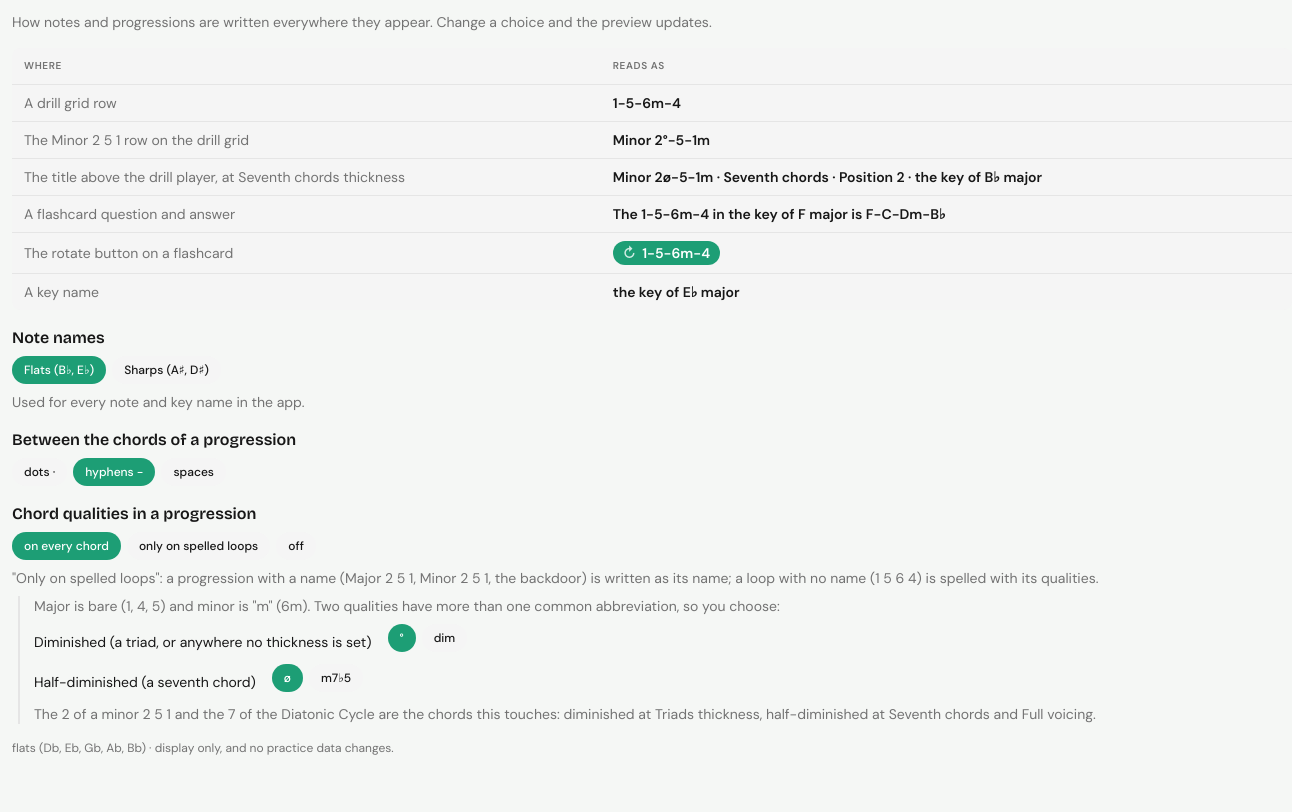
Test case: every control moves the preview › follows the note names, in every row that has one
Click the button "Sharps (A♯, D♯)" at (166, 370), box [112,356,221,384]
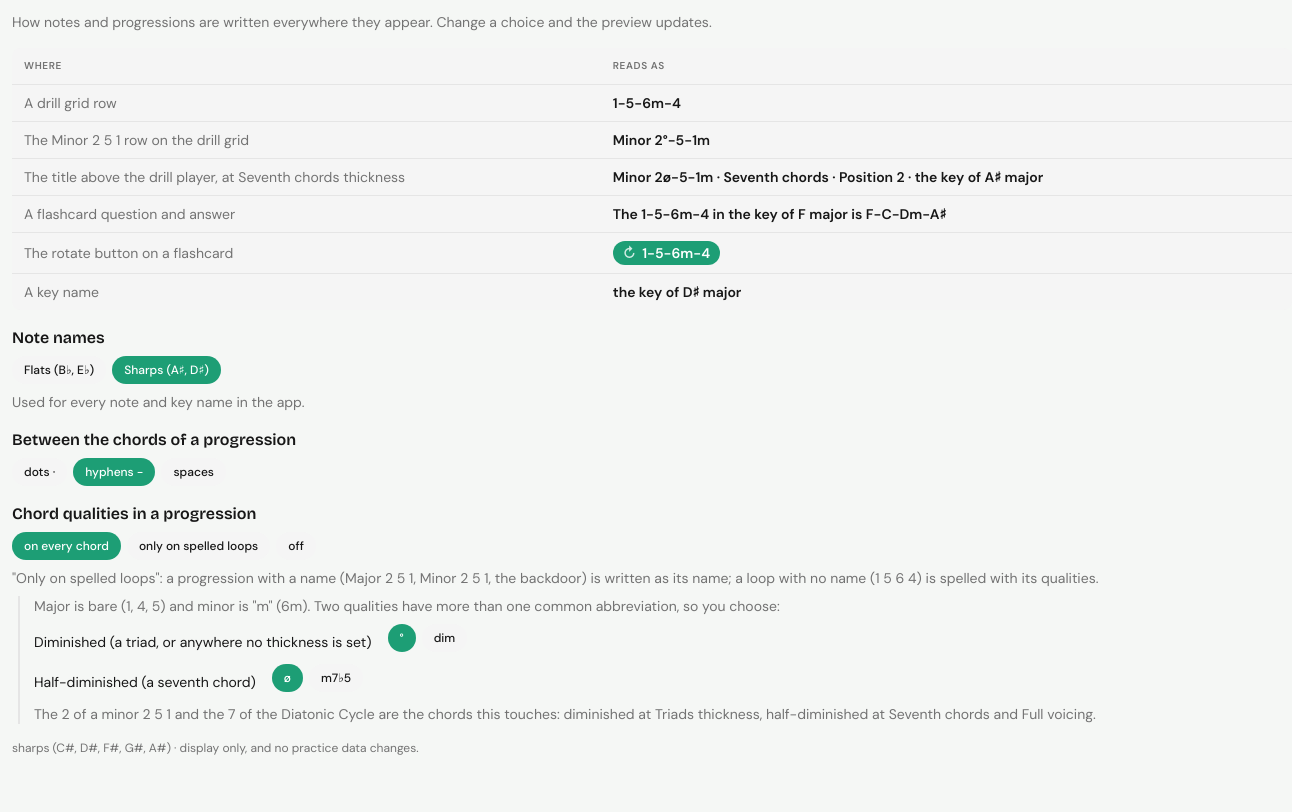
expect the cell with test id "spelling-preview-cell" shows "the key of A♯ major": met, box [613,168,1043,186]
expect the cell with test id "spelling-preview-cell" shows "A♯": met, box [613,205,946,223]
expect the cell with test id "spelling-preview-cell" reads "the key of D♯ major": met, box [613,283,741,301]
